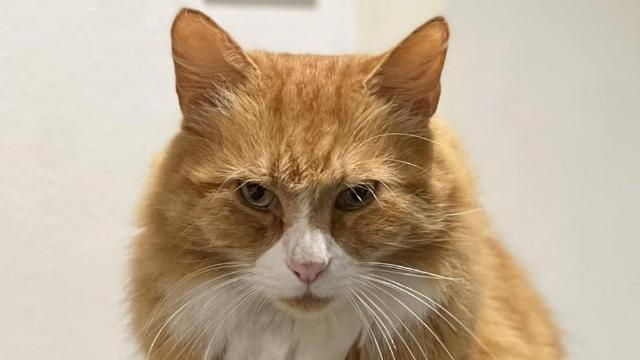cat: (126, 8, 504, 360)
